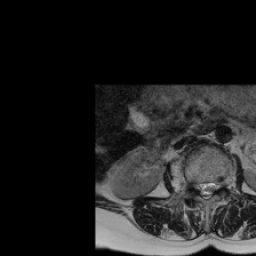CCS_normal: (203, 175, 209, 205)
LFS_normal: (215, 173, 222, 194)
LLS_normal: (209, 175, 215, 200)
RFS_normal: (192, 174, 197, 194)
RLS_normal: (197, 175, 203, 202)
